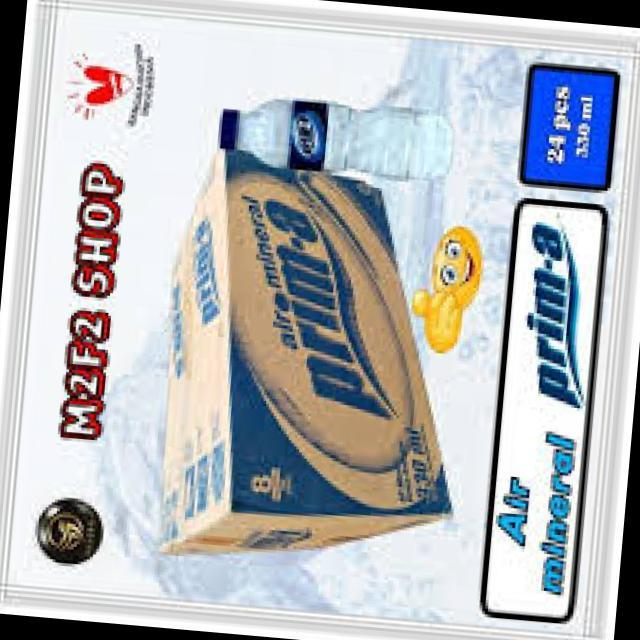good: (208, 75, 462, 190)
